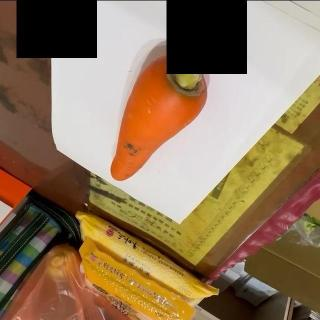carrot: (111, 54, 208, 181)
